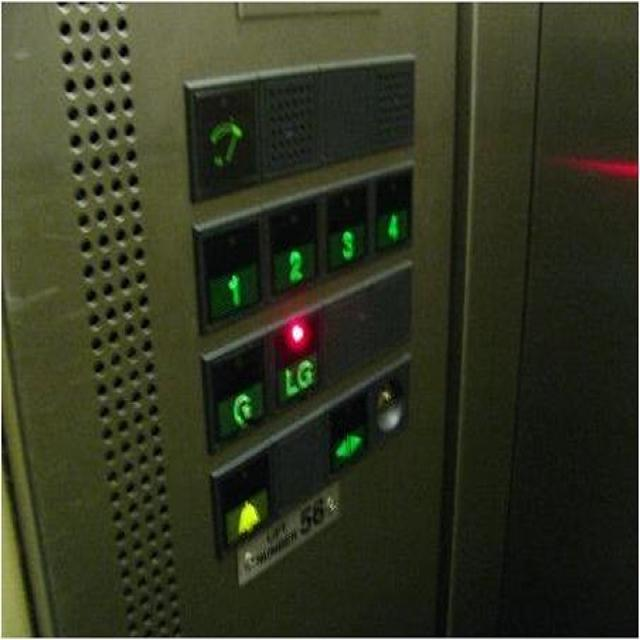1: (205, 260, 258, 316)
2: (271, 236, 315, 288)
3: (325, 221, 364, 263)
4: (377, 207, 405, 244)
G: (215, 379, 263, 433)
LG: (275, 347, 316, 400)
alarm: (222, 485, 267, 540)
open: (329, 420, 366, 472)
unknown: (190, 83, 259, 193)
